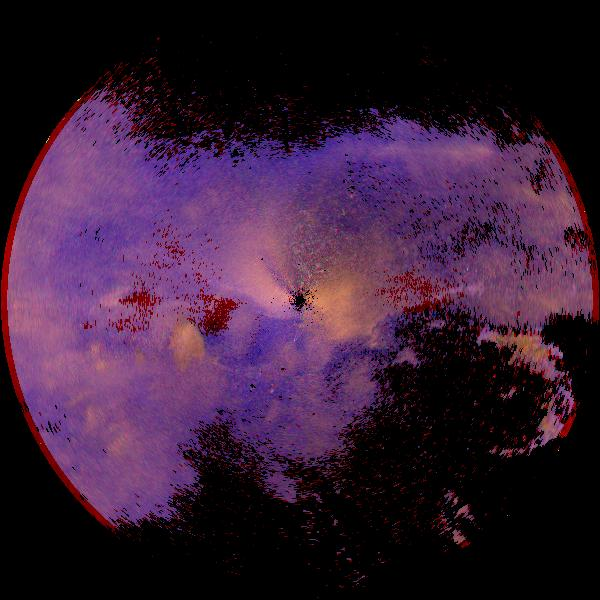roost: (93, 284, 237, 428)
